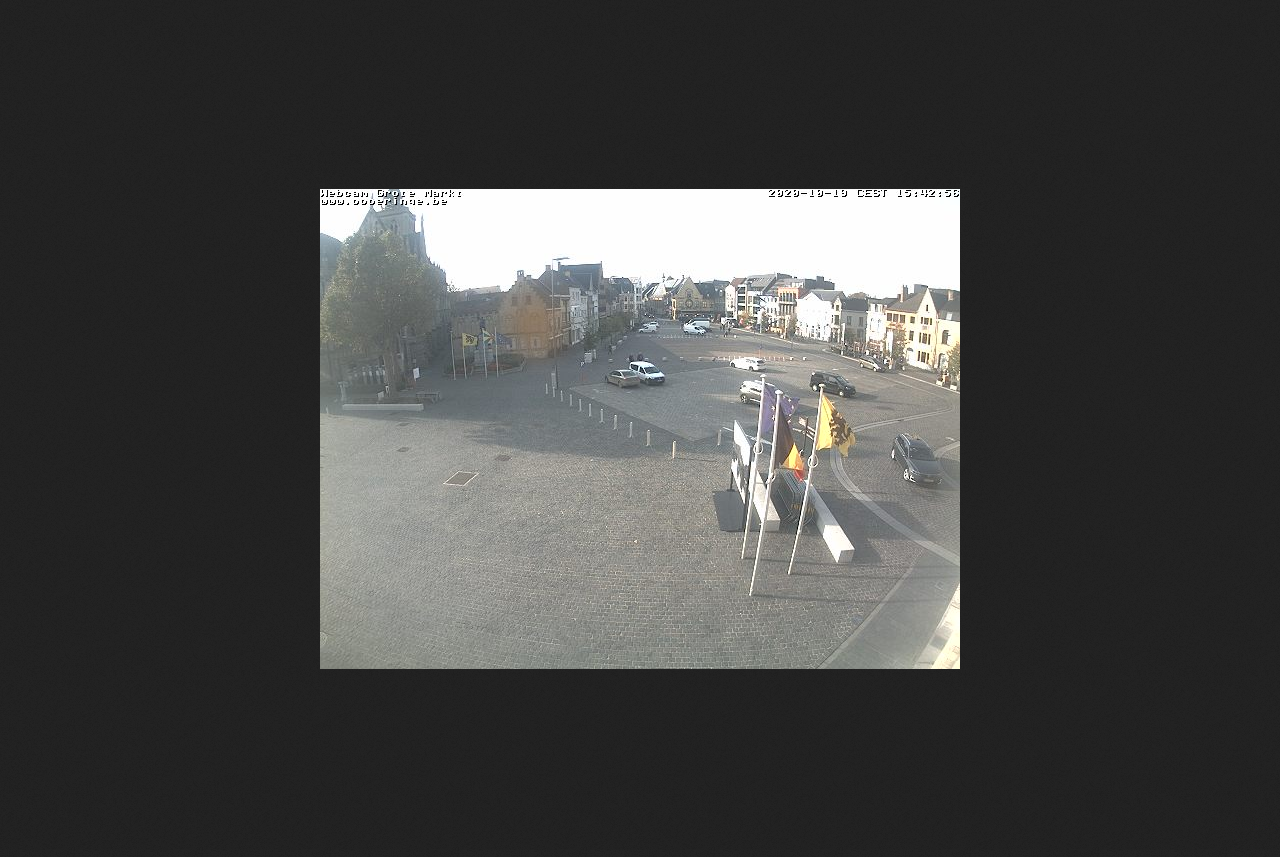maybe: (809, 380, 858, 465), (768, 397, 809, 483)
yes: (455, 332, 480, 350)
